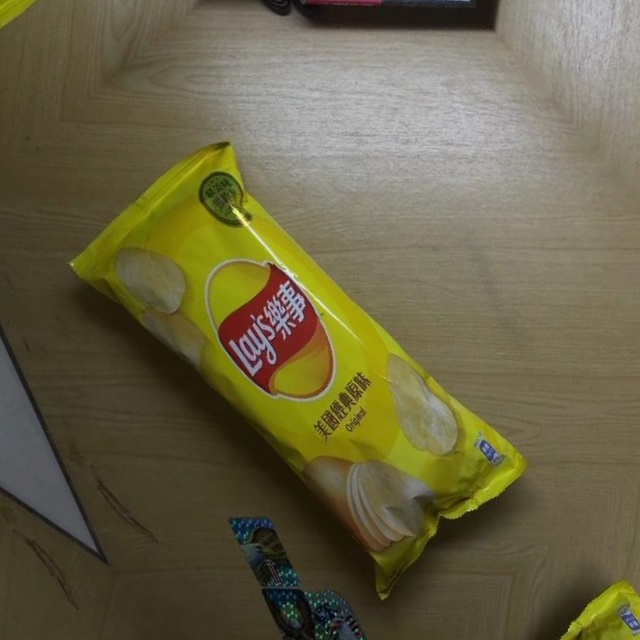Lay-s-original: (65, 115, 537, 616)
